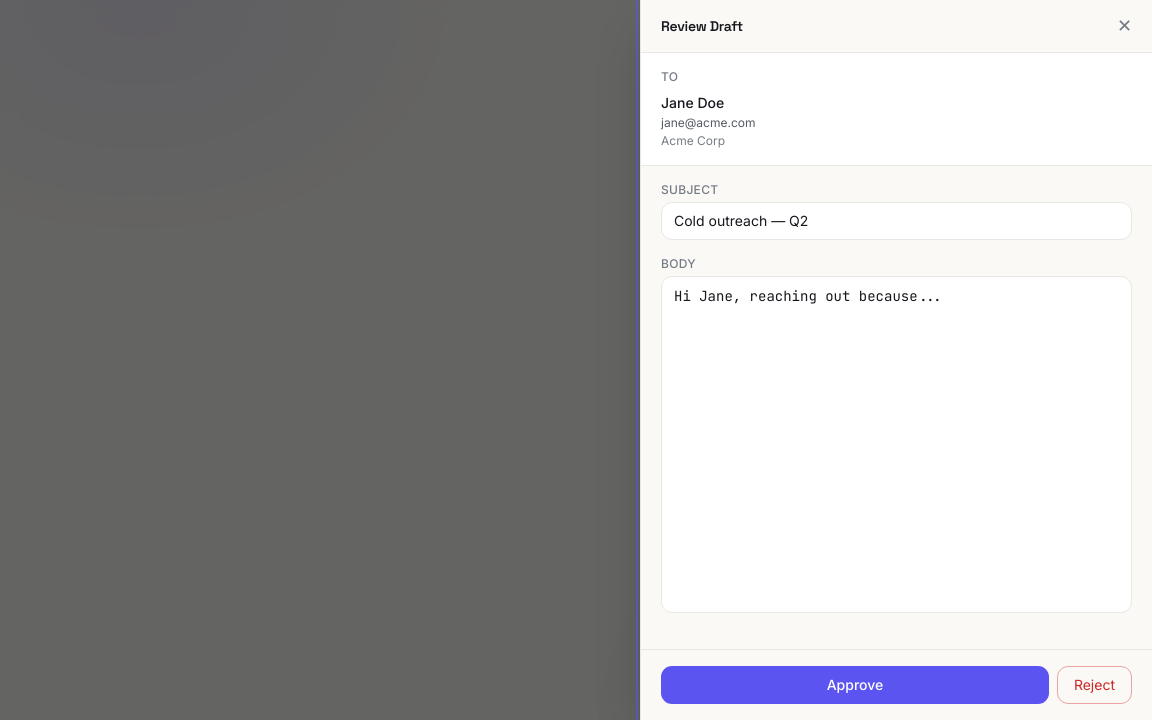
it: DraftReviewDrawer › shows rejection reason input after clicking Reject
Click the button "Reject". click: (1094, 685)
box: [1057,666,1132,704]
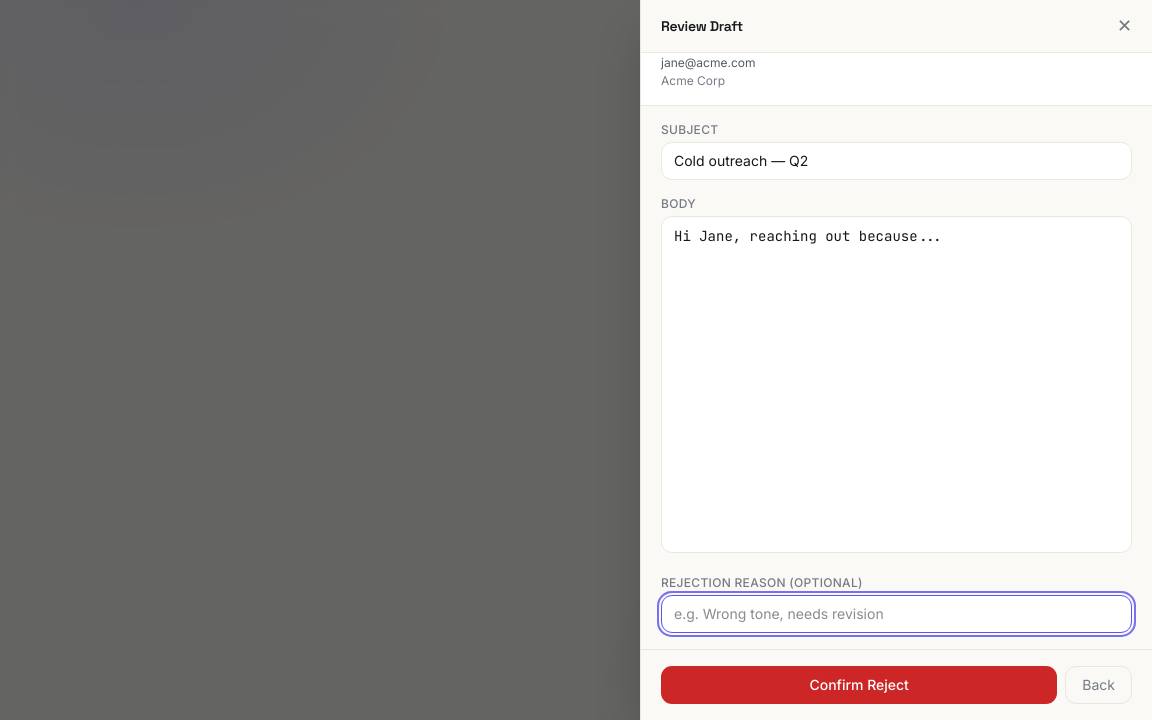
Expected: the field labelled "Rejection reason (optional)" is shown, [661,594,1132,632]
Expected: the button "Confirm Reject" is shown, [661,666,1057,704]
